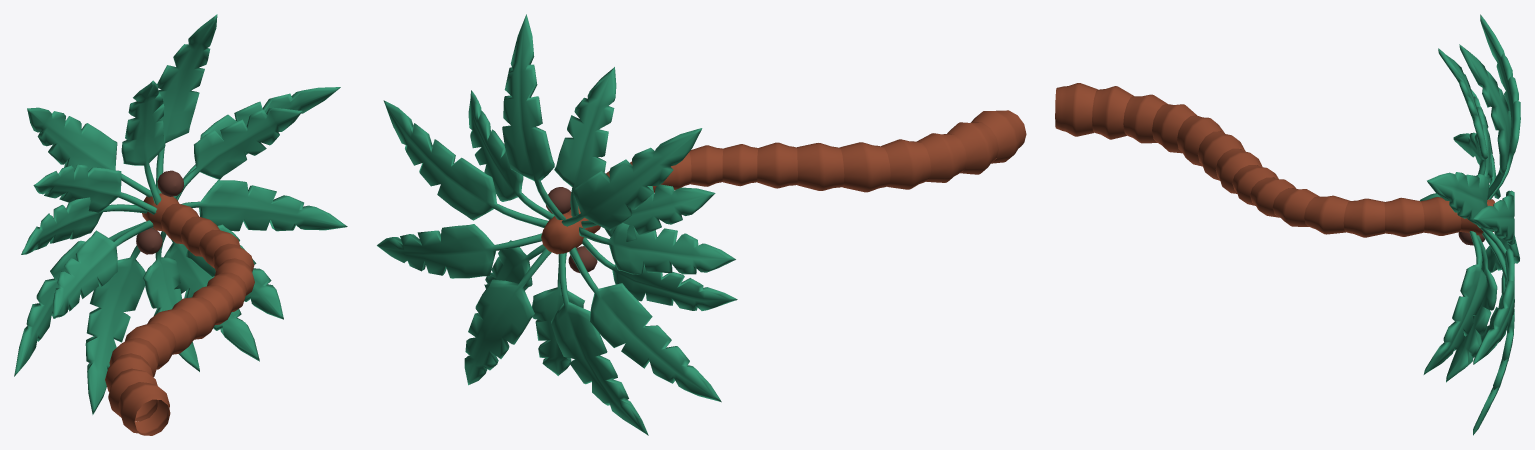
Rendered from palmTreeCurvy.fbx.
The picture shows the model from 3 angles, left to right: view 1: azimuth 30°, elevation 25°; view 2: azimuth 150°, elevation 25°; view 3: azimuth 270°, elevation 25°; orthographic projection. The views are drawn at different scales.
Parts seen in each view (by area): view 1: palmTreeCurvy; view 2: palmTreeCurvy; view 3: palmTreeCurvy.
Part boxes in pixels (<box>): palmTreeCurvy: <box>14,14,347,435</box>; palmTreeCurvy: <box>377,14,1026,435</box>; palmTreeCurvy: <box>1055,14,1520,435</box>.
Bounding box in the file's own units: 1057 × 896 × 1002.
Materials: 1 (1 with a texture image).
